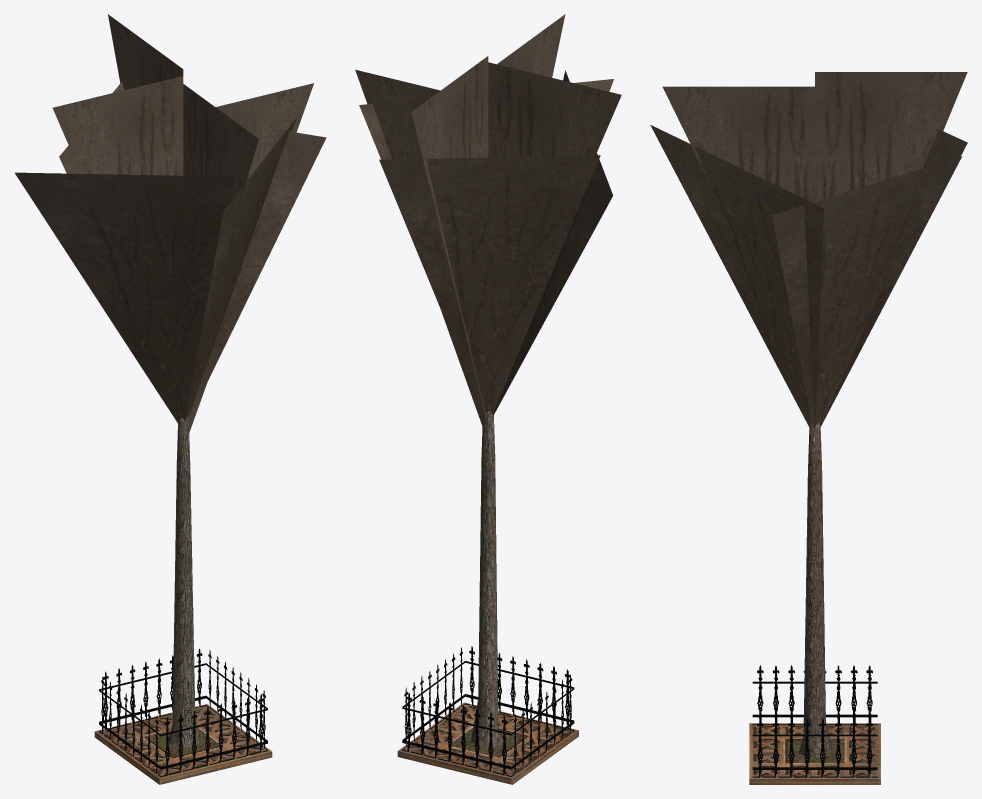
The model's file is tree2a_base.fbx.
3 views of the same model, side by side, from view 1: azimuth 30°, elevation 25°; view 2: azimuth 150°, elevation 25°; view 3: azimuth 270°, elevation 25° (orthographic).
Parts seen in each view (by area): view 1: mesh_4, mesh_0, mesh_2, mesh_3; view 2: mesh_4, mesh_0, mesh_2, mesh_3; view 3: mesh_4, mesh_3, mesh_2, mesh_0.
Part boxes in pixels (<box>): mesh_4: <box>15,14,326,432</box>; mesh_0: <box>99,648,267,776</box>; mesh_2: <box>94,704,272,784</box>; mesh_3: <box>168,415,200,747</box>; mesh_4: <box>355,14,621,426</box>; mesh_0: <box>402,646,574,776</box>; mesh_2: <box>397,702,578,784</box>; mesh_3: <box>471,410,503,748</box>; mesh_4: <box>650,72,967,429</box>; mesh_3: <box>799,422,832,757</box>; mesh_2: <box>749,723,880,784</box>; mesh_0: <box>752,665,877,777</box>.
Bounding box in the file's own units: 491 × 1149 × 483.
4 materials, 4 textured.
